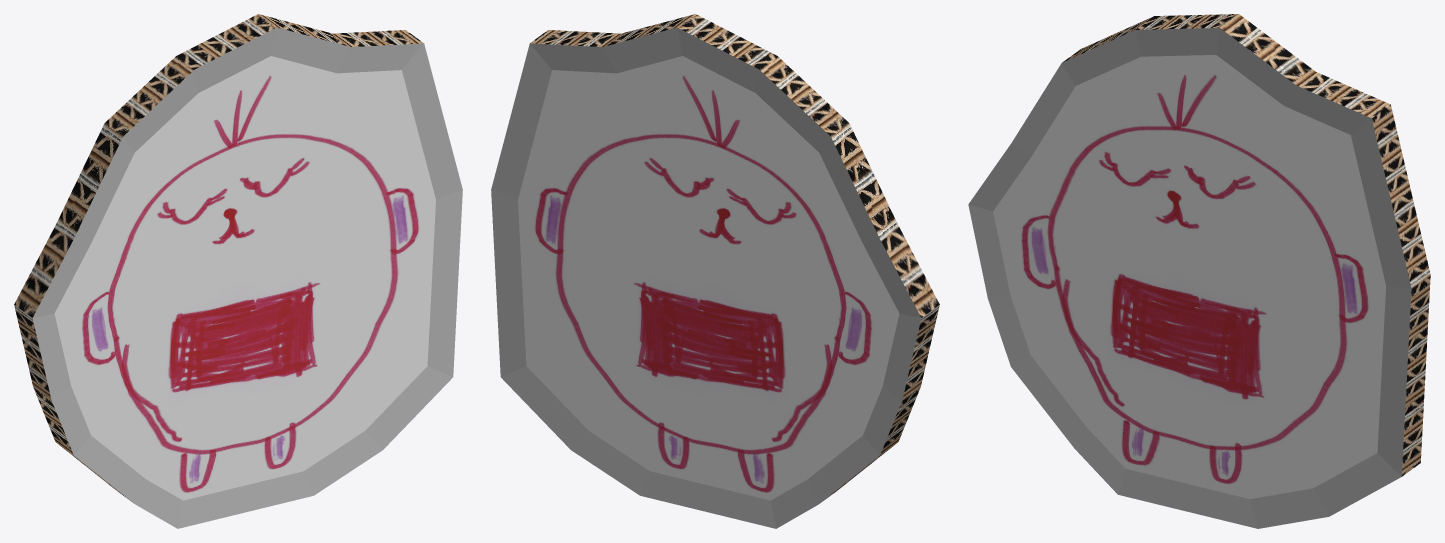
Rendered from NukkuTappi.fbx.
3 renders of one model, left to right at view 1: azimuth 30°, elevation 25°; view 2: azimuth 150°, elevation 25°; view 3: azimuth 330°, elevation 25°, orthographic. The views are drawn at different scales.
Parts seen in each view (by area): view 1: NukkuTappi; view 2: NukkuTappi; view 3: NukkuTappi.
Part boxes in pixels (x1,y1,x2,y2): NukkuTappi: (14, 14, 462, 528); NukkuTappi: (491, 14, 939, 528); NukkuTappi: (968, 14, 1430, 528).
Size of the model in its own units: 213 by 226 by 15.83.
